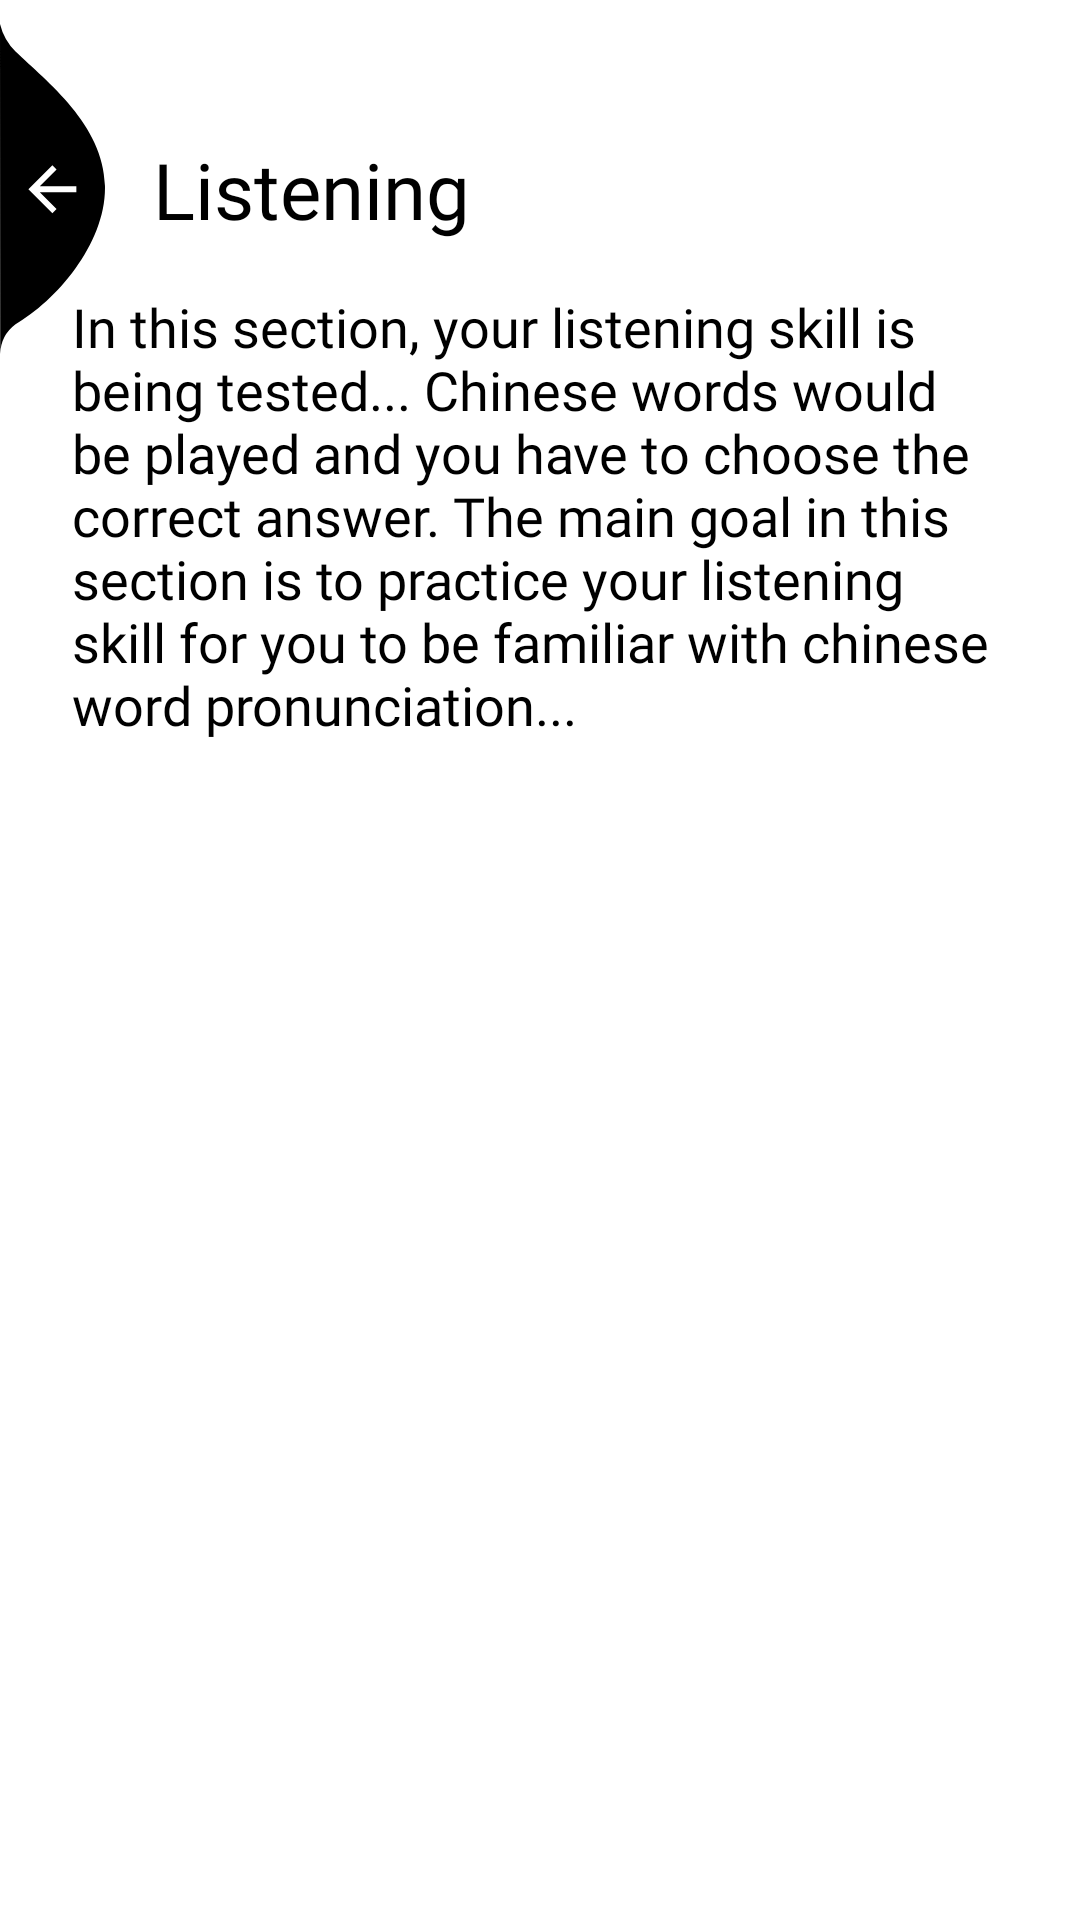

Named icons in this screenshot (1080*1920) and their bounding boxes, (x1, y1, x2, y2):
back: (0, 24, 105, 353)
